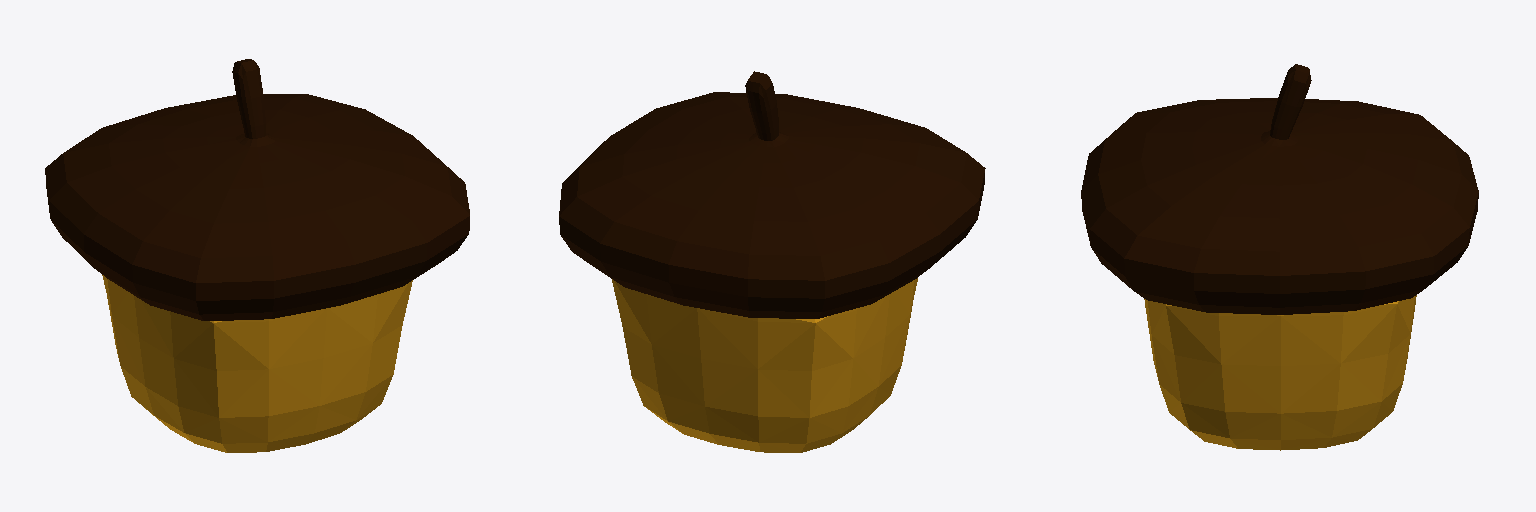
File: acorn.obj
The picture shows the model from 3 angles: view 1: azimuth 30°, elevation 25°; view 2: azimuth 150°, elevation 25°; view 3: azimuth 270°, elevation 25°; orthographic projection.
Parts seen in each view (by area): view 1: Cube.001, Cube; view 2: Cube.001, Cube; view 3: Cube.001, Cube.
Boxes of the visible parts, <box> form: Cube.001: <box>45,59,469,320</box>; Cube: <box>102,275,412,452</box>; Cube.001: <box>559,71,985,318</box>; Cube: <box>612,278,917,452</box>; Cube.001: <box>1081,64,1478,314</box>; Cube: <box>1144,295,1416,450</box>.
Bounding box in the file's own units: 2.99 × 3.13 × 2.98.